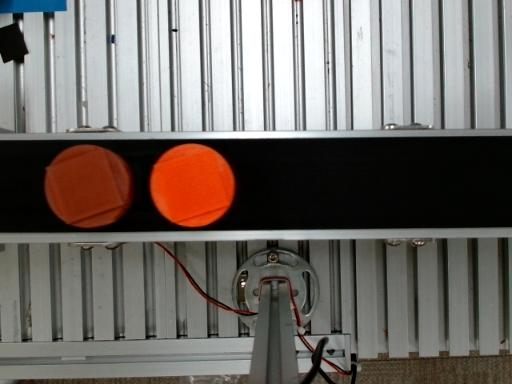Square: (46, 146, 125, 224), (153, 148, 231, 223)
